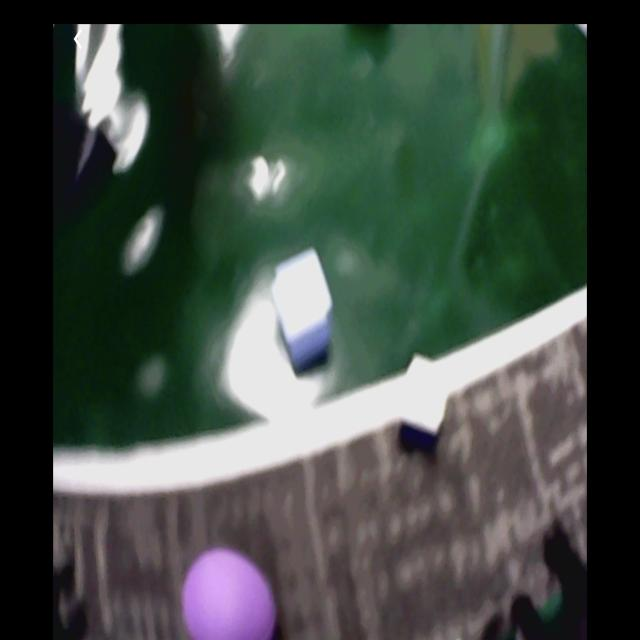ball: (182, 550, 277, 640)
